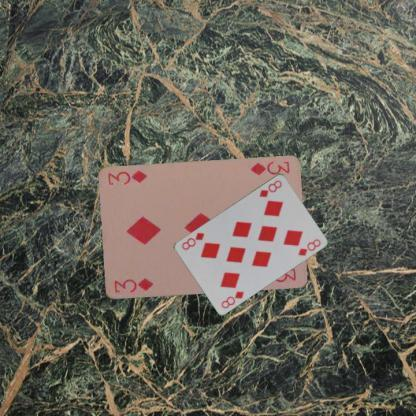3d: (110, 276, 154, 294), (247, 159, 291, 177)
8d: (219, 288, 245, 310), (256, 178, 284, 198)
